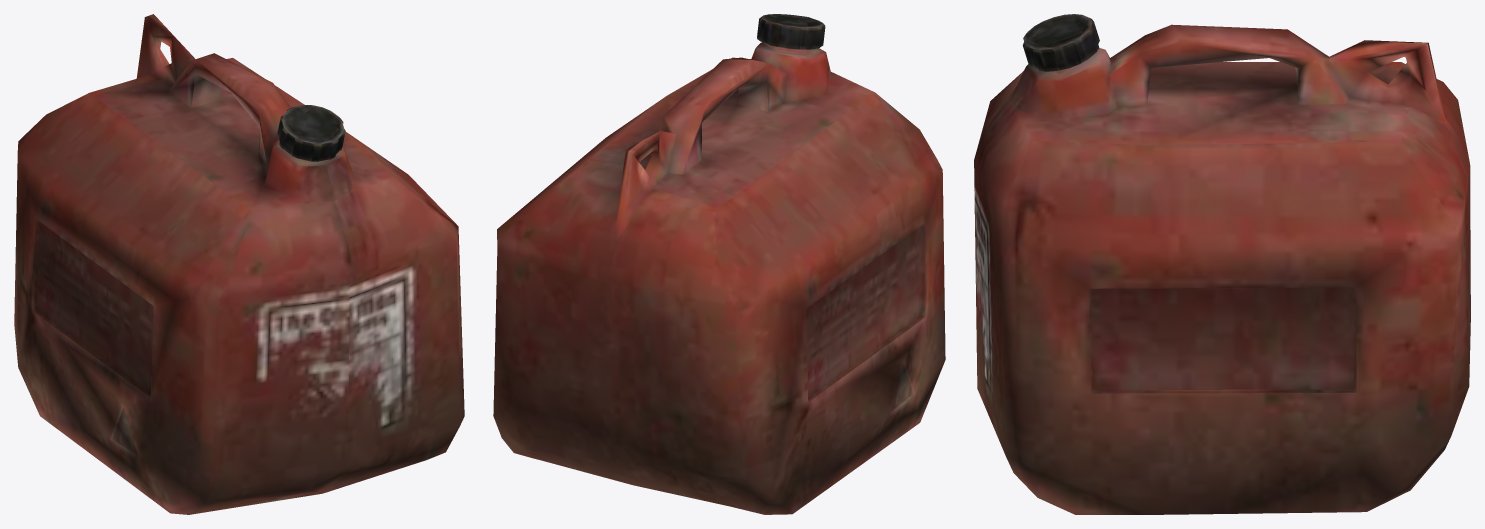
Rendered from jerrycanPlastic_lo.glb.
3 renders of one model, left to right at view 1: azimuth 30°, elevation 25°; view 2: azimuth 150°, elevation 25°; view 3: azimuth 270°, elevation 25°, orthographic. The views are drawn at different scales.
Visible parts, largest first — view 1: plastic_jerrycan; view 2: plastic_jerrycan; view 3: plastic_jerrycan.
Part boxes in pixels (x1,y1,x2,y2): plastic_jerrycan: (14,14,464,514); plastic_jerrycan: (493,14,945,514); plastic_jerrycan: (974,14,1470,514).
Size of the model in its own units: 0.2654 by 0.315 by 0.3391.
1 material, 1 textured.
